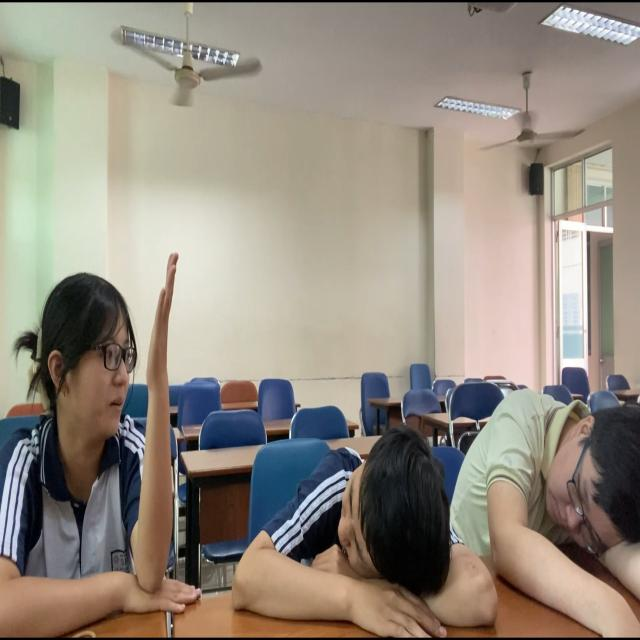raise_hand: (1, 213, 214, 640)
sleep: (222, 419, 523, 640), (431, 383, 640, 640)
